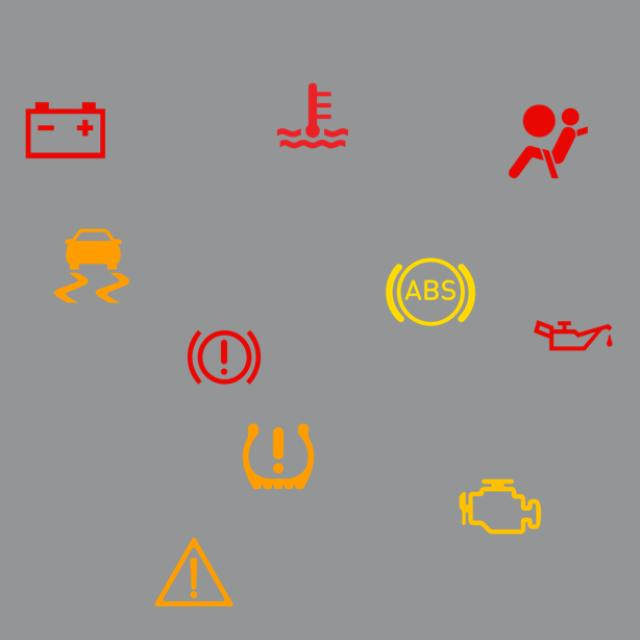Anti Lock Braking System: (382, 243, 479, 341)
Braking System Issue: (175, 308, 273, 406)
Charging System Issue: (16, 82, 114, 180)
Check Engine: (452, 458, 550, 556)
Electronic Stability Problem -ESP-: (42, 217, 140, 315)
Engine Overheating Warning Light: (264, 66, 362, 165)
Low Engine Oil Warning Light: (524, 286, 622, 384)
Low Tire Pressure Warning Light: (230, 408, 328, 506)
Master warning light: (145, 523, 243, 621)
SRS-Airbag: (500, 93, 598, 191)
